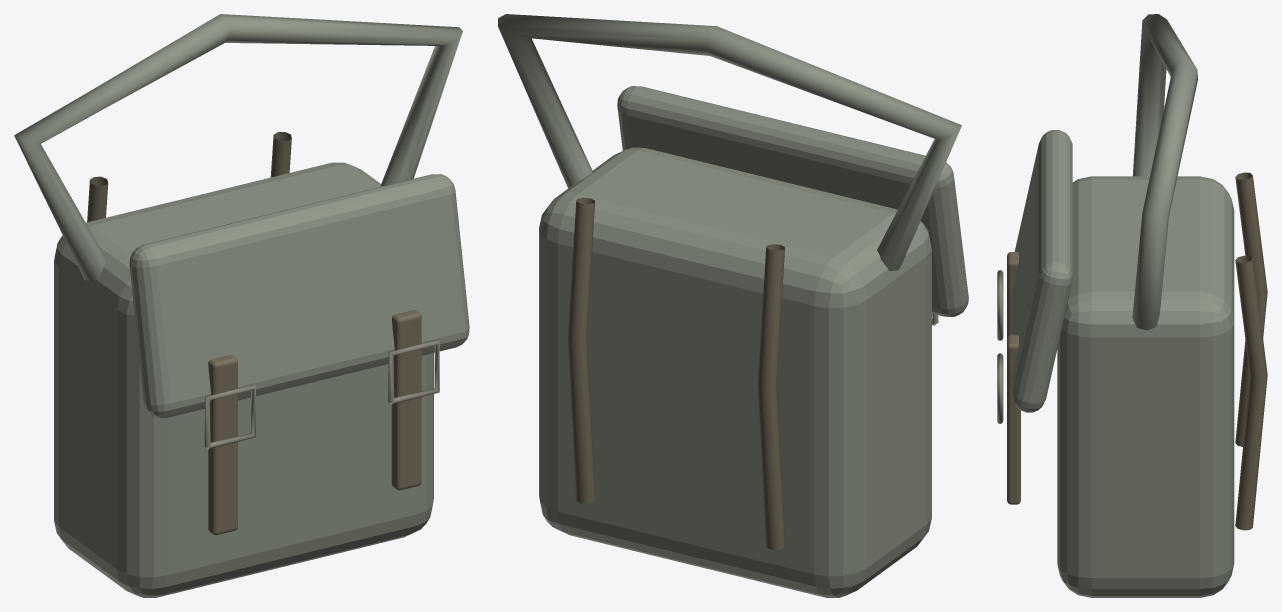
The model's file is camp_satchel.glb.
The picture shows the model from 3 angles, left to right: view 1: azimuth 30°, elevation 25°; view 2: azimuth 150°, elevation 25°; view 3: azimuth 270°, elevation 25°; orthographic projection. The views are drawn at different scales.
Parts seen in each view (by area): view 1: Canvas satchel body, Worn flap, Frayed canvas shoulder strap, Leather fastening strap.001, Leather fastening strap, Metal rectangular buckle.001, Metal rectangular buckle, Blanket straps, Blanket straps.001; view 2: Canvas satchel body, Worn flap, Frayed canvas shoulder strap, Blanket straps, Blanket straps.001; view 3: Canvas satchel body, Worn flap, Frayed canvas shoulder strap, Blanket straps.001, Blanket straps, Leather fastening strap.001, Leather fastening strap, Metal rectangular buckle, Metal rectangular buckle.001.
Part boxes in pixels (left/top/right/bottom): Canvas satchel body: left=54, top=162, right=433, bottom=597; Worn flap: left=129, top=174, right=469, bottom=417; Frayed canvas shoulder strap: left=14, top=14, right=462, bottom=281; Leather fastening strap.001: left=391, top=310, right=421, bottom=490; Leather fastening strap: left=208, top=355, right=237, bottom=535; Metal rectangular buckle.001: left=388, top=340, right=439, bottom=404; Metal rectangular buckle: left=204, top=384, right=255, bottom=449; Blanket straps: left=87, top=176, right=108, bottom=222; Blanket straps.001: left=270, top=132, right=291, bottom=177; Canvas satchel body: left=539, top=147, right=931, bottom=597; Worn flap: left=617, top=86, right=968, bottom=316; Frayed canvas shoulder strap: left=498, top=14, right=961, bottom=270; Blanket straps: left=758, top=244, right=784, bottom=549; Blanket straps.001: left=568, top=197, right=595, bottom=503; Canvas satchel body: left=1057, top=176, right=1234, bottom=597; Worn flap: left=1012, top=130, right=1072, bottom=412; Frayed canvas shoulder strap: left=1132, top=14, right=1197, bottom=330; Blanket straps.001: left=1235, top=255, right=1267, bottom=530; Blanket straps: left=1235, top=172, right=1267, bottom=446; Leather fastening strap.001: left=1007, top=335, right=1020, bottom=504; Leather fastening strap: left=1007, top=252, right=1018, bottom=338; Metal rectangular buckle: left=997, top=270, right=1003, bottom=340; Metal rectangular buckle.001: left=997, top=353, right=1003, bottom=423.
Bounding box in the file's own units: 0.4849 × 0.5333 × 0.275.
